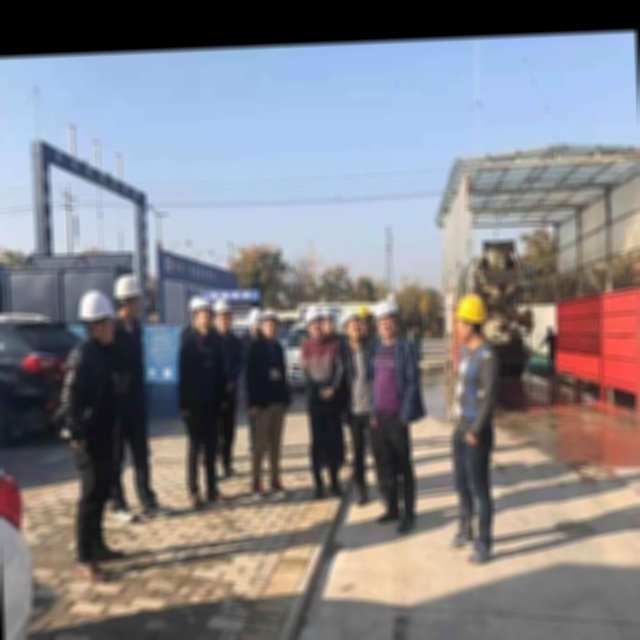Con_Casco: (80, 290, 115, 342), (453, 294, 486, 344), (372, 299, 397, 338), (304, 305, 324, 339)
